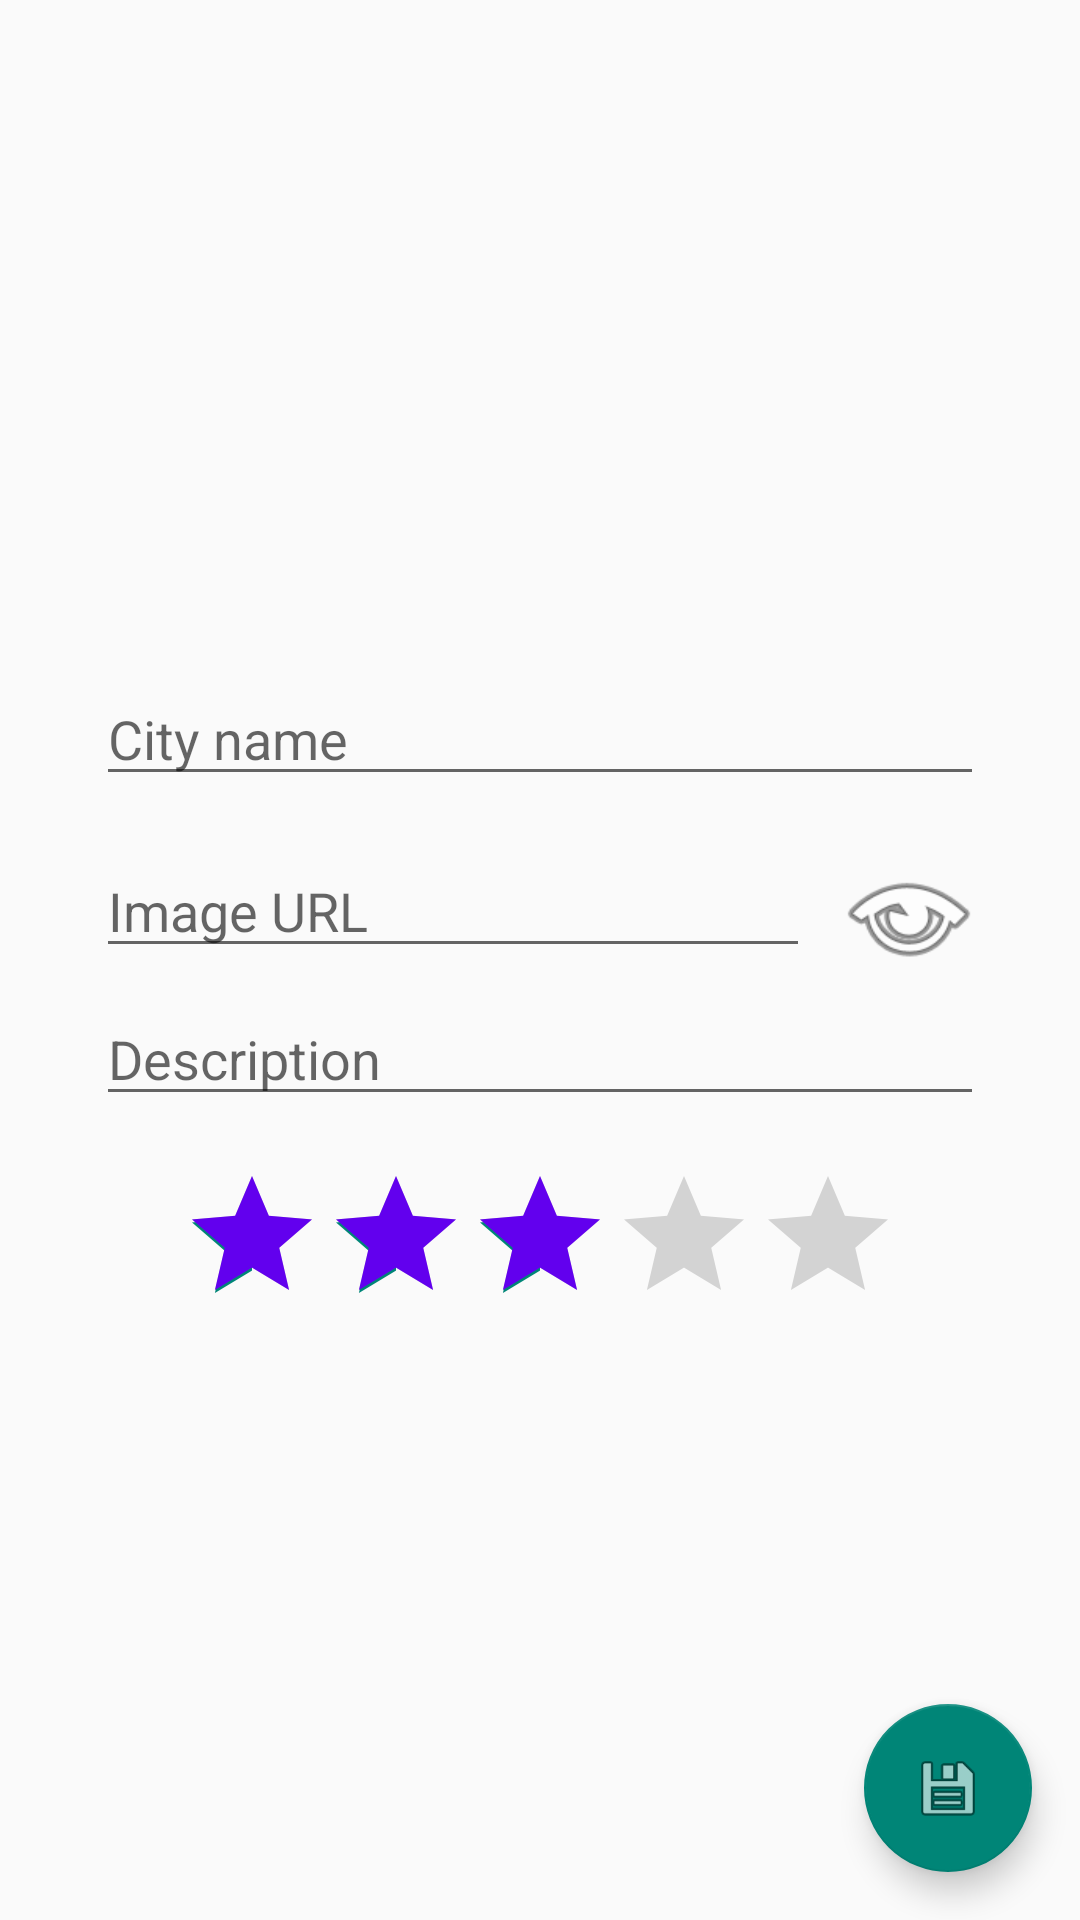

Point at icon controls on the screen. Image size 1080*1920, points as (x=x, y=y).
save: (x=948, y=1788)
view: (x=909, y=920)
